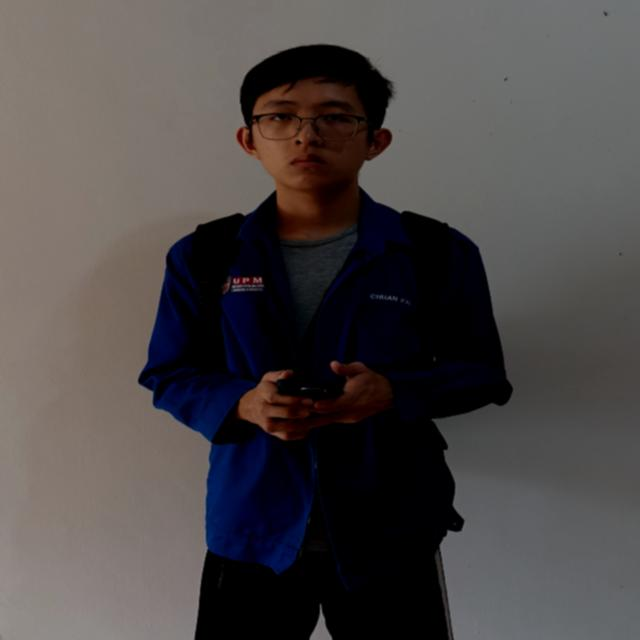person_with_labcoat: (139, 45, 512, 640)
